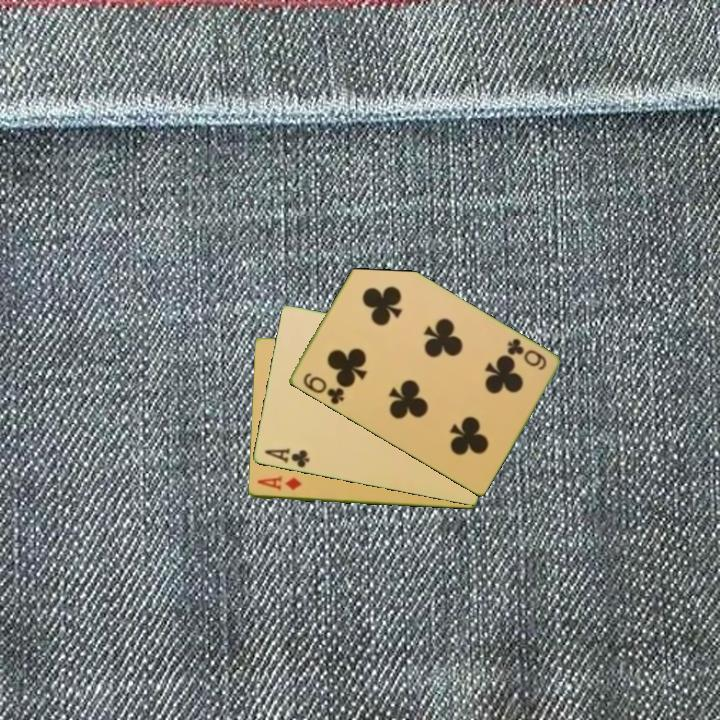6c: (299, 369, 347, 408), (503, 335, 549, 374)
Ac: (261, 445, 312, 471)
Ad: (253, 473, 304, 494)
